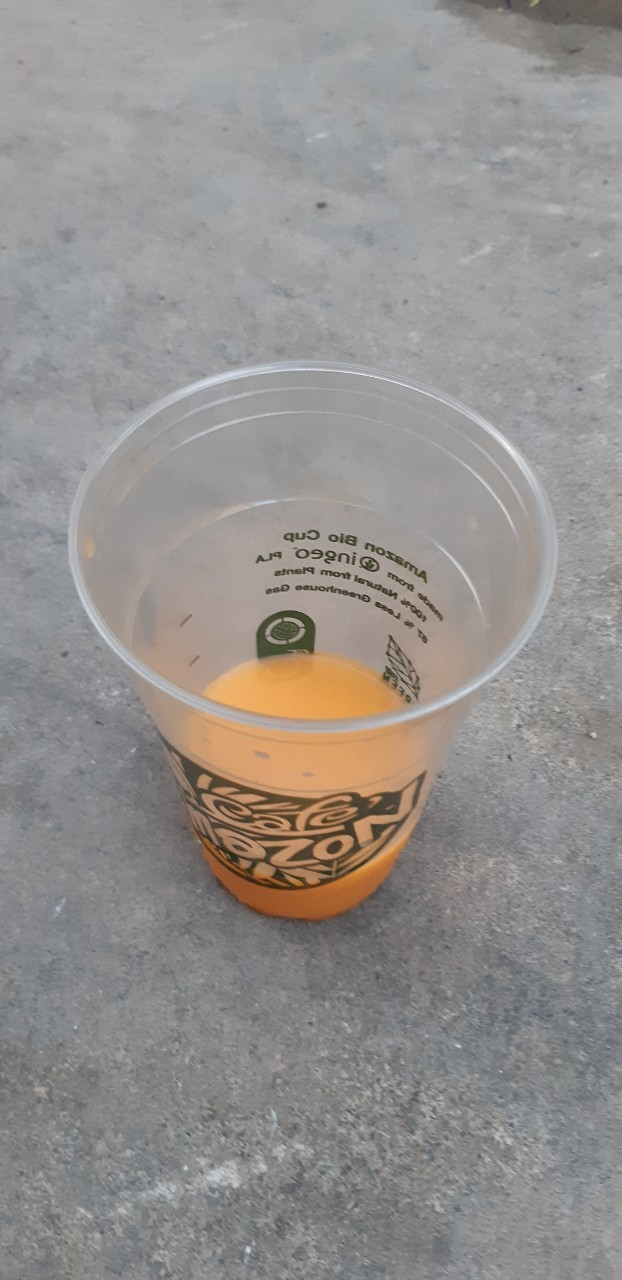PlasticCup: (68, 359, 553, 921)
